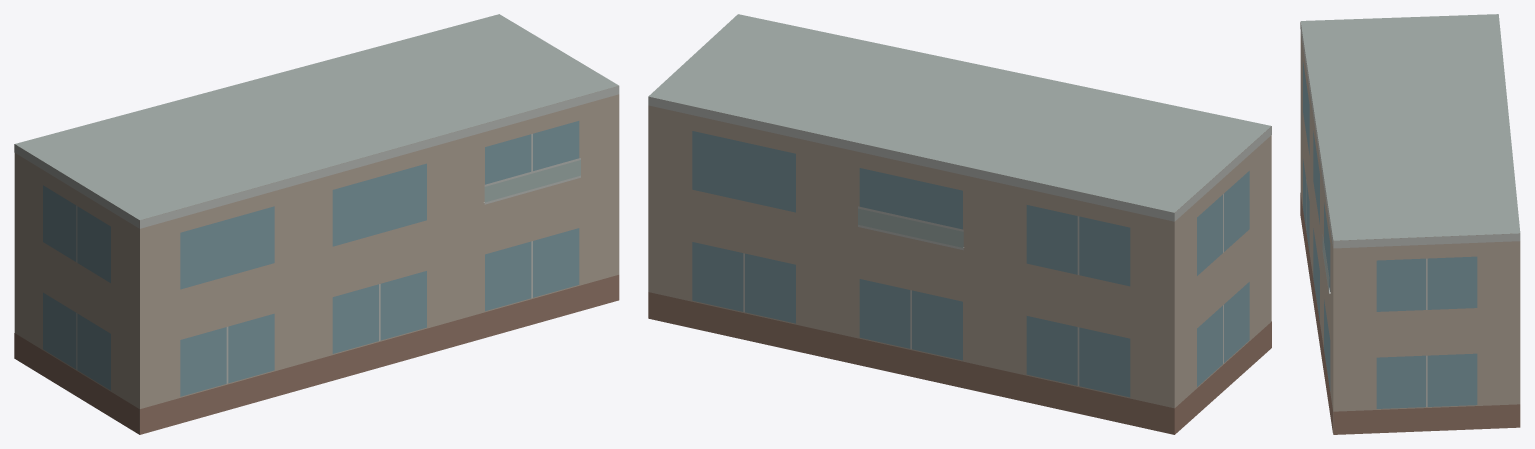
Rendered from survey-upis-32644868.glb.
The picture shows the model from 3 angles, left to right: view 1: azimuth 30°, elevation 25°; view 2: azimuth 150°, elevation 25°; view 3: azimuth 270°, elevation 25°; orthographic projection. The views are drawn at different scales.
Parts seen in each view (by area): view 1: survey-upis-32644868.tmp; view 2: survey-upis-32644868.tmp; view 3: survey-upis-32644868.tmp.
Boxes of the visible parts, x1,y1,x2,y2 form: survey-upis-32644868.tmp: [14, 14, 619, 434]; survey-upis-32644868.tmp: [648, 14, 1271, 434]; survey-upis-32644868.tmp: [1300, 14, 1520, 434].
Size of the model in its own units: 15.28 by 6.1 by 6.27.
